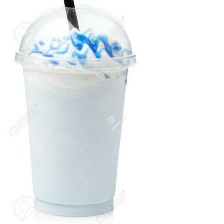drinking_straw: (59, 0, 86, 41)
glass: (11, 5, 148, 220)
